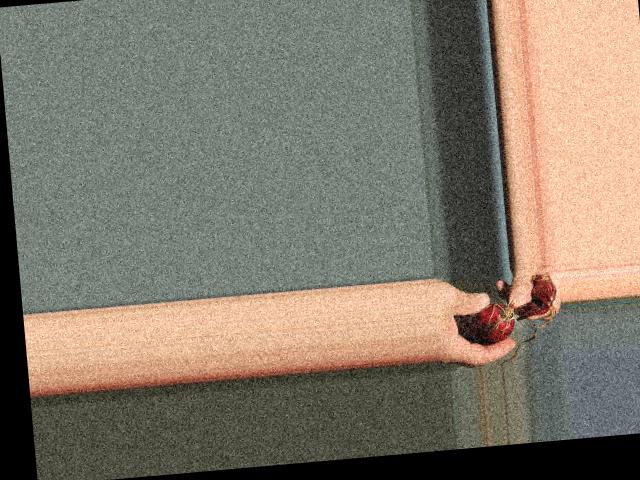onion: (474, 301, 516, 343)
